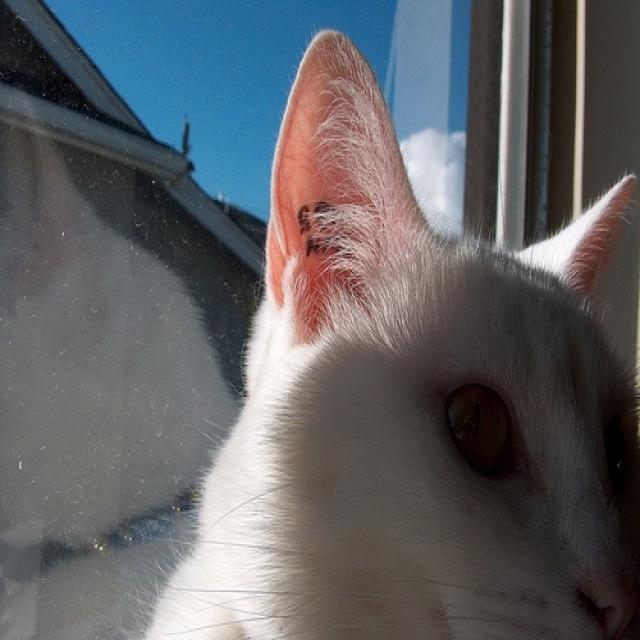cat: (141, 26, 639, 638)
